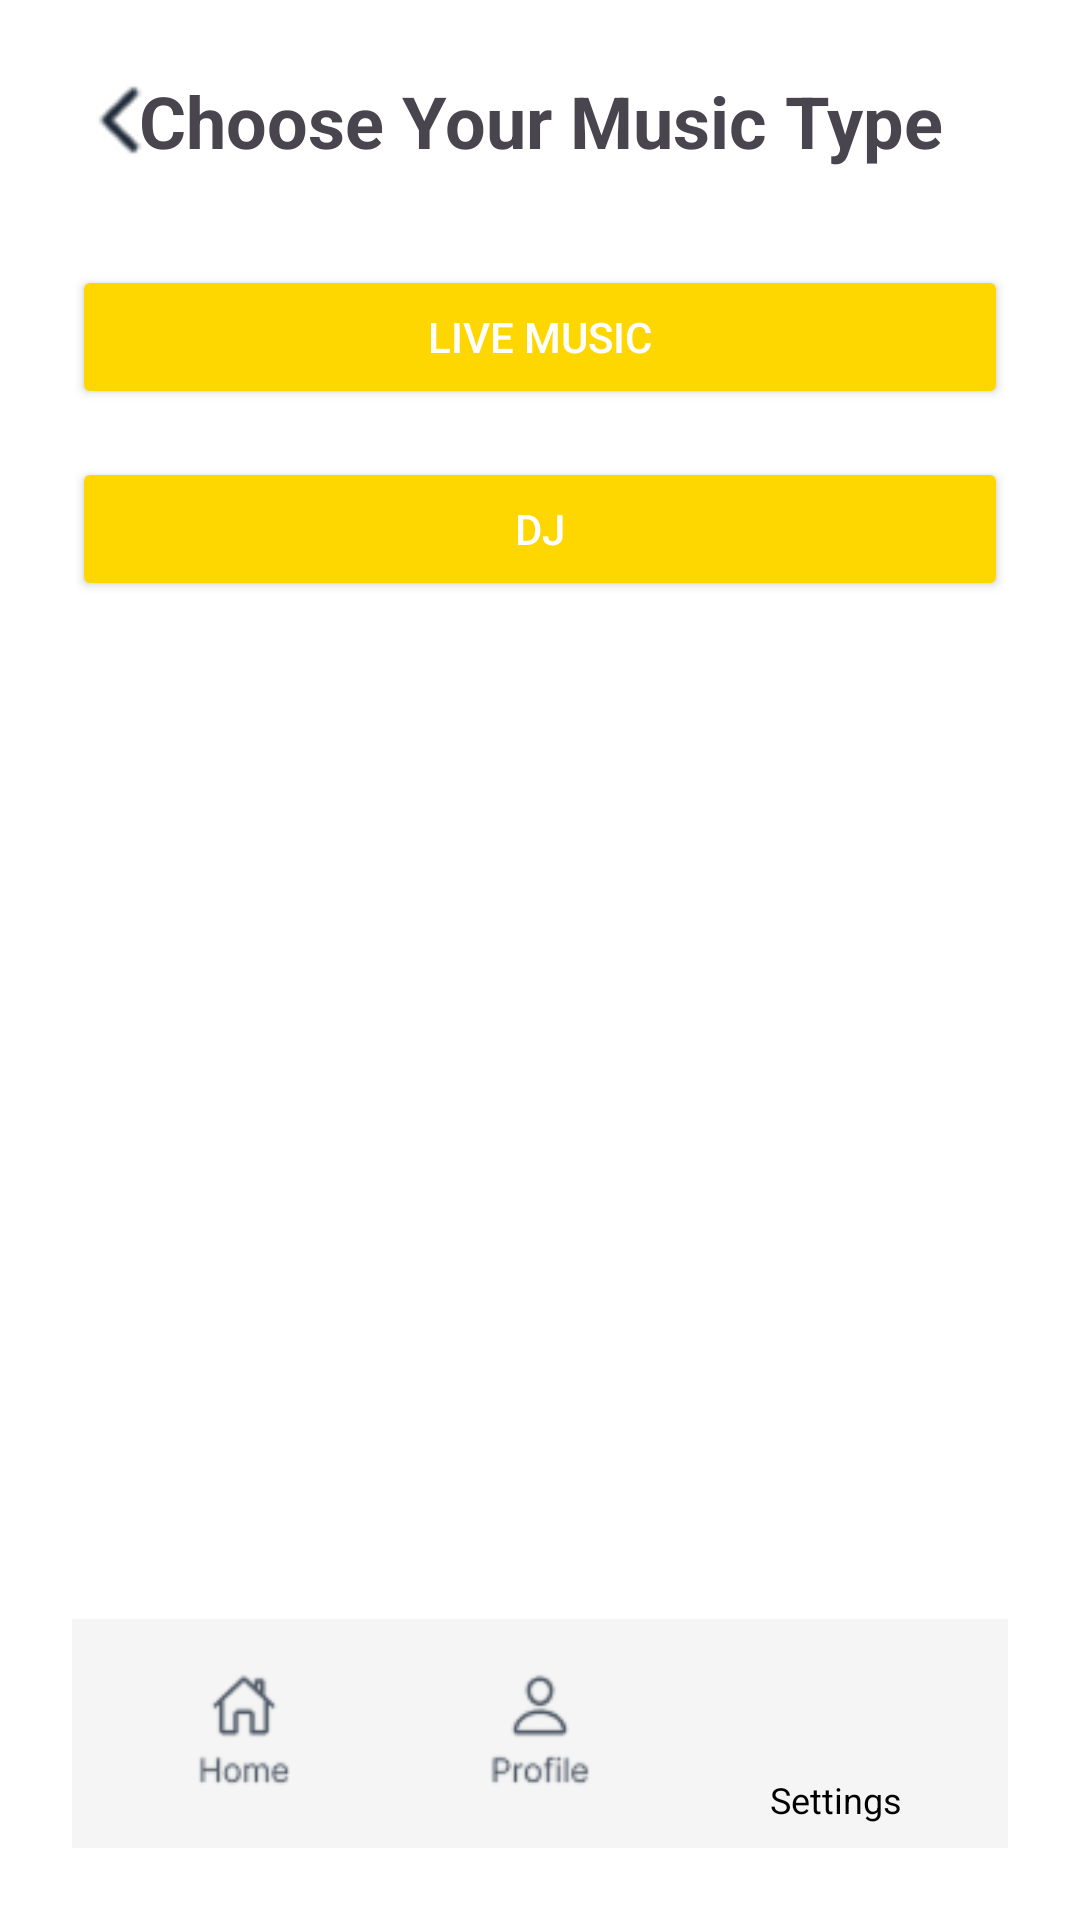

Named icons in this screenshot (1080x1920) and their bounding boxes, BBox(x1, y1, x2, y2):
Back: BBox(99, 86, 141, 154)
